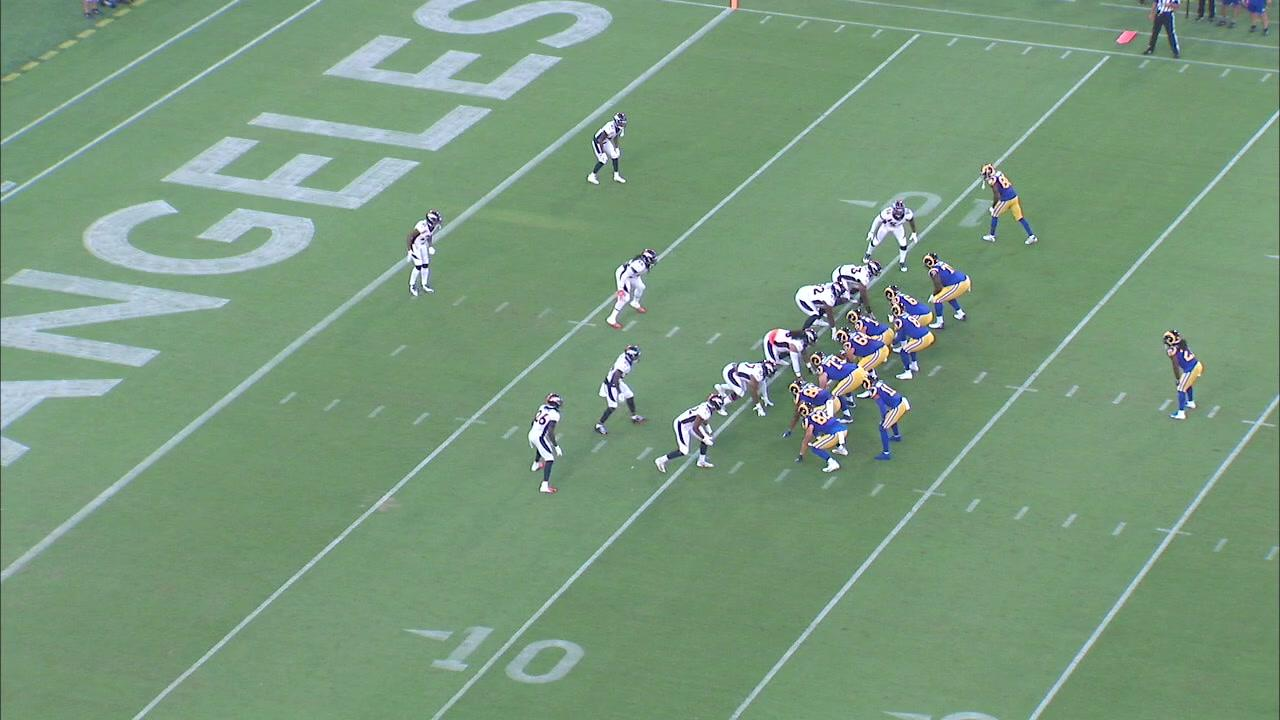player: (653, 391, 726, 476), (976, 162, 1040, 248), (592, 342, 649, 438), (858, 198, 920, 273), (604, 246, 659, 330), (526, 390, 569, 496), (861, 372, 911, 463), (781, 377, 842, 450), (793, 401, 851, 476), (808, 350, 866, 425), (834, 326, 891, 400), (921, 251, 972, 331), (1162, 327, 1204, 422), (712, 358, 778, 418), (888, 300, 936, 382), (401, 208, 444, 299), (821, 259, 884, 321), (882, 283, 935, 355), (585, 110, 630, 187), (792, 280, 847, 342), (761, 327, 820, 382), (844, 309, 894, 365)
ref: (1139, 0, 1187, 60)
